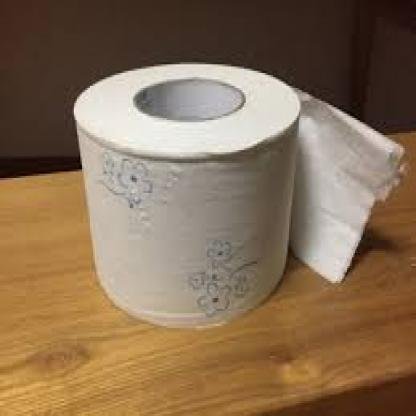tissue: (64, 44, 411, 350)
